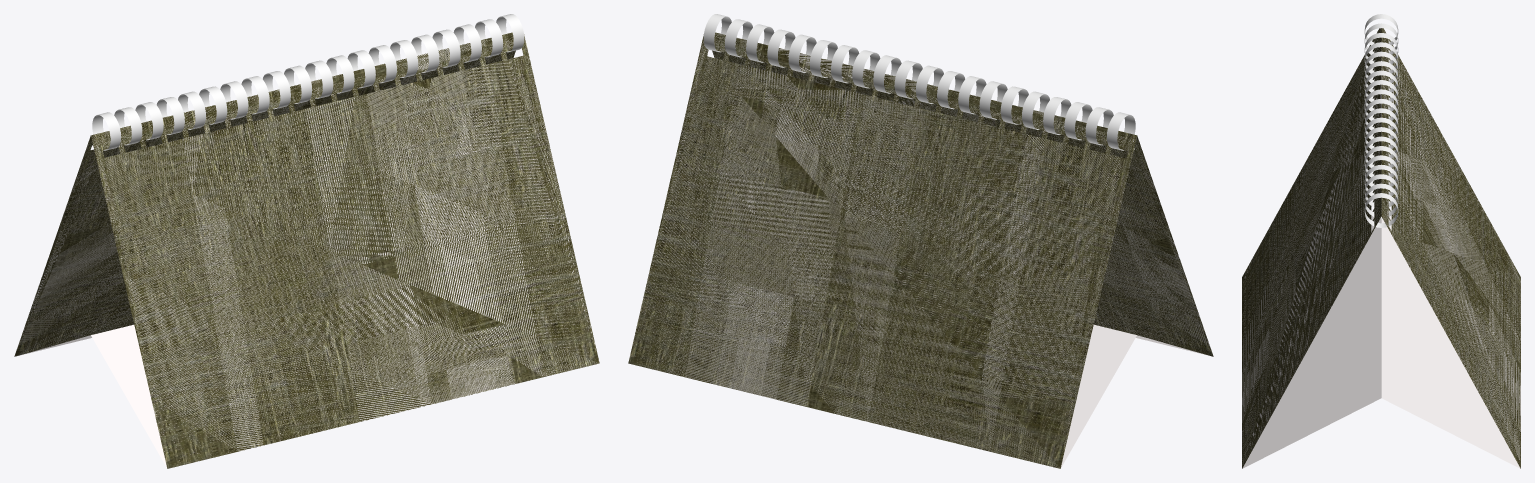
Rendered from Calendario.dae.
The picture shows the model from 3 angles, left to right: view 1: azimuth 30°, elevation 25°; view 2: azimuth 150°, elevation 25°; view 3: azimuth 270°, elevation 25°; orthographic projection. The views are drawn at different scales.
Parts seen in each view (by area): view 1: Component_1 (×3), Component_2; view 2: Component_1 (×3), Component_2; view 3: Component_1 (×4), Component_2 (×2).
Boxes of the visible parts, x1,y1,x2,y2 form: Component_1 (×3): [14, 32, 599, 468]; Component_2: [92, 112, 121, 150]; Component_1 (×3): [628, 32, 1213, 468]; Component_2: [1106, 112, 1135, 150]; Component_1 (×4): [1242, 28, 1520, 468]; Component_2 (×2): [1364, 183, 1398, 227].
Bounding box in the file's own units: 3.21 × 1.97 × 2.09.
